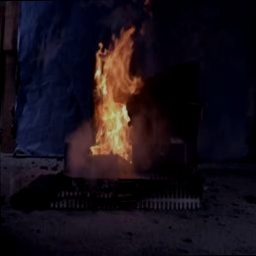fire: (90, 21, 139, 164)
